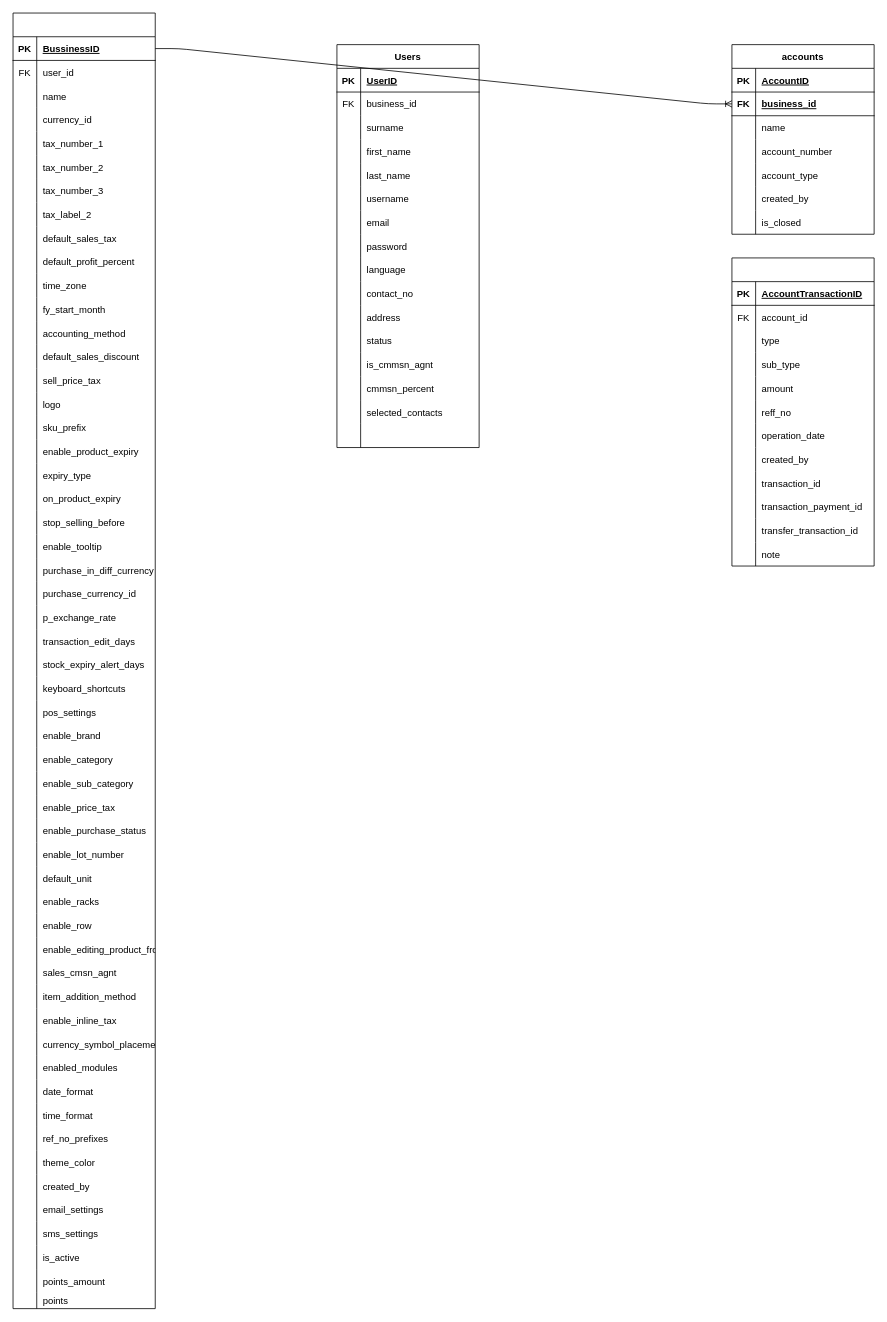
The diagram is 887 pixels wide and 1322 high, and some of its shapes have lost their labels. The shapes that lost their labels are listed below. From the top down, each one's box as (x1, y1, x2, y2) in pixels, then its label:
(731, 257, 874, 566): account_transactions
(12, 12, 155, 1309): business
